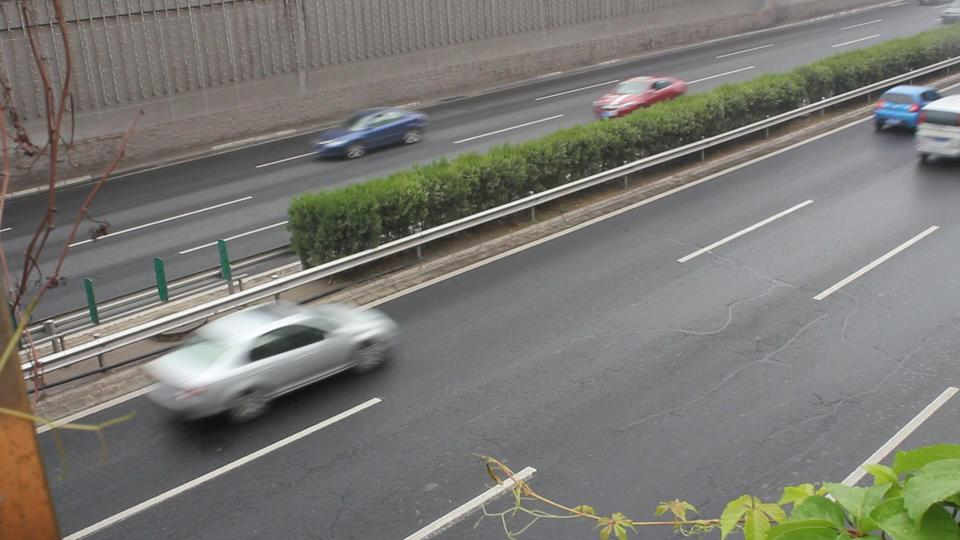Car: (142, 299, 393, 417), (312, 108, 426, 156), (590, 75, 684, 120), (866, 85, 937, 133)
Minivan: (907, 100, 960, 162)
